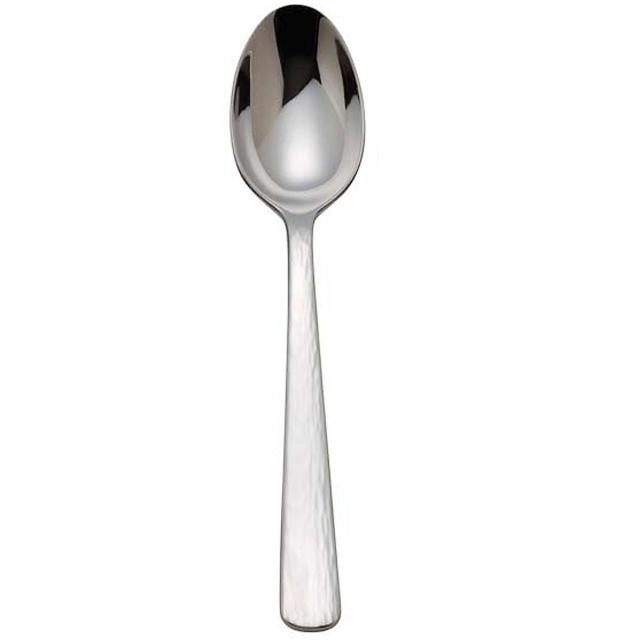spoon: (220, 0, 384, 636)
